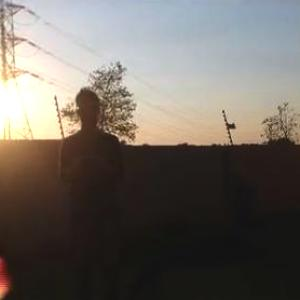follow: (58, 81, 128, 299)
